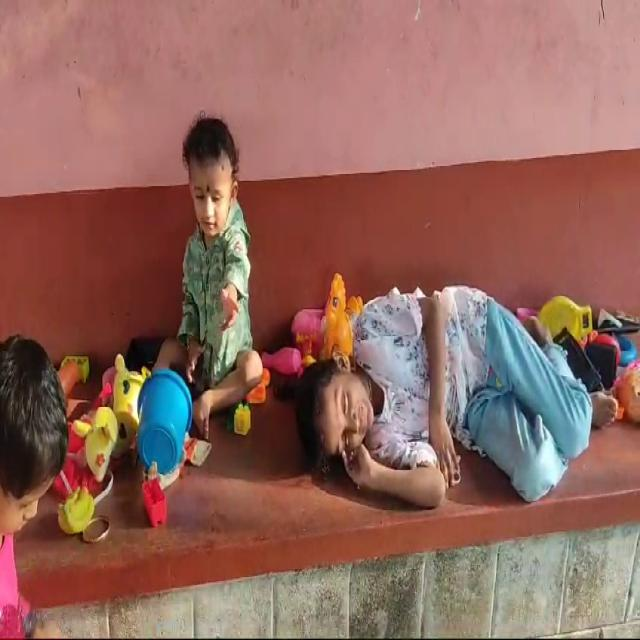child: (276, 284, 634, 540), (122, 65, 269, 499)
